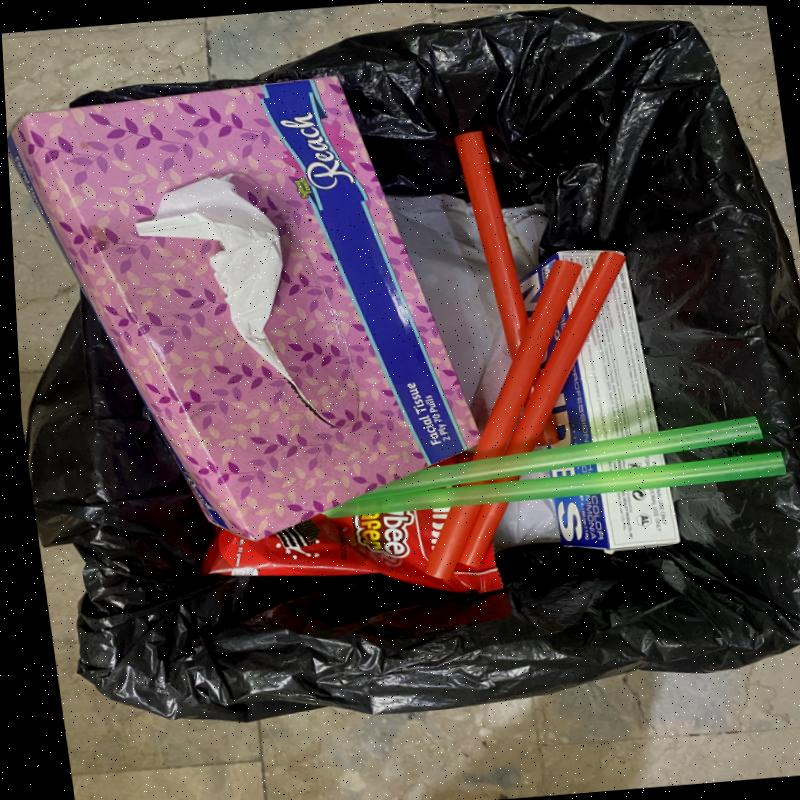cardboard: (7, 77, 480, 540), (518, 251, 680, 554)
food wrapper: (199, 508, 505, 594)
paper: (135, 177, 318, 415)
plastic straw: (459, 251, 626, 568), (424, 260, 583, 581), (341, 416, 763, 503), (325, 451, 786, 518), (455, 131, 528, 361), (535, 414, 559, 446)
